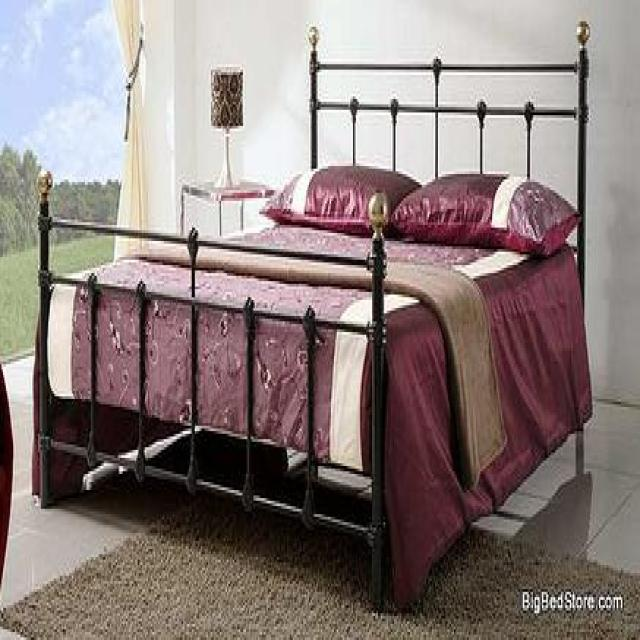bed: (31, 19, 593, 613)
table: (179, 177, 274, 238)
